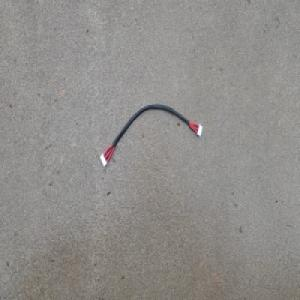Wire: (99, 102, 203, 168)
